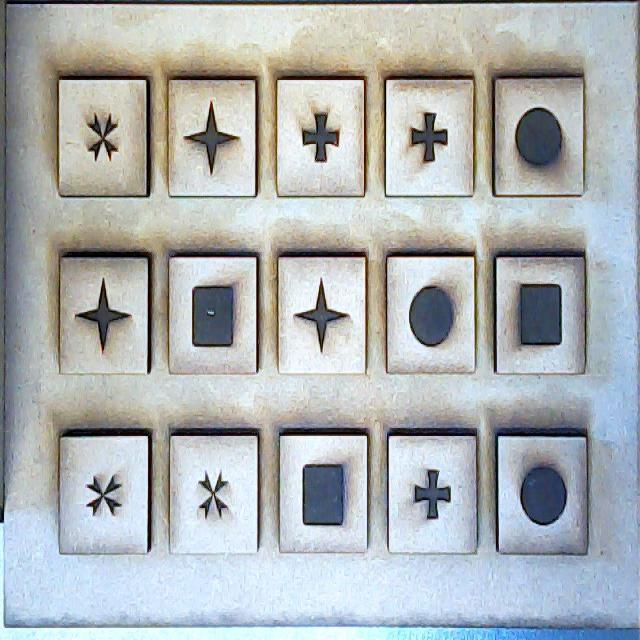circle: (495, 429, 592, 559), (386, 252, 478, 375), (493, 75, 584, 198)
maltese: (170, 429, 260, 556), (57, 78, 150, 196), (60, 435, 149, 553)
square: (165, 252, 262, 376), (280, 428, 371, 554), (495, 251, 587, 375)
star: (169, 75, 260, 201), (276, 252, 369, 374), (58, 252, 151, 372)
temple: (276, 76, 364, 196), (390, 433, 479, 550), (388, 80, 477, 192)
